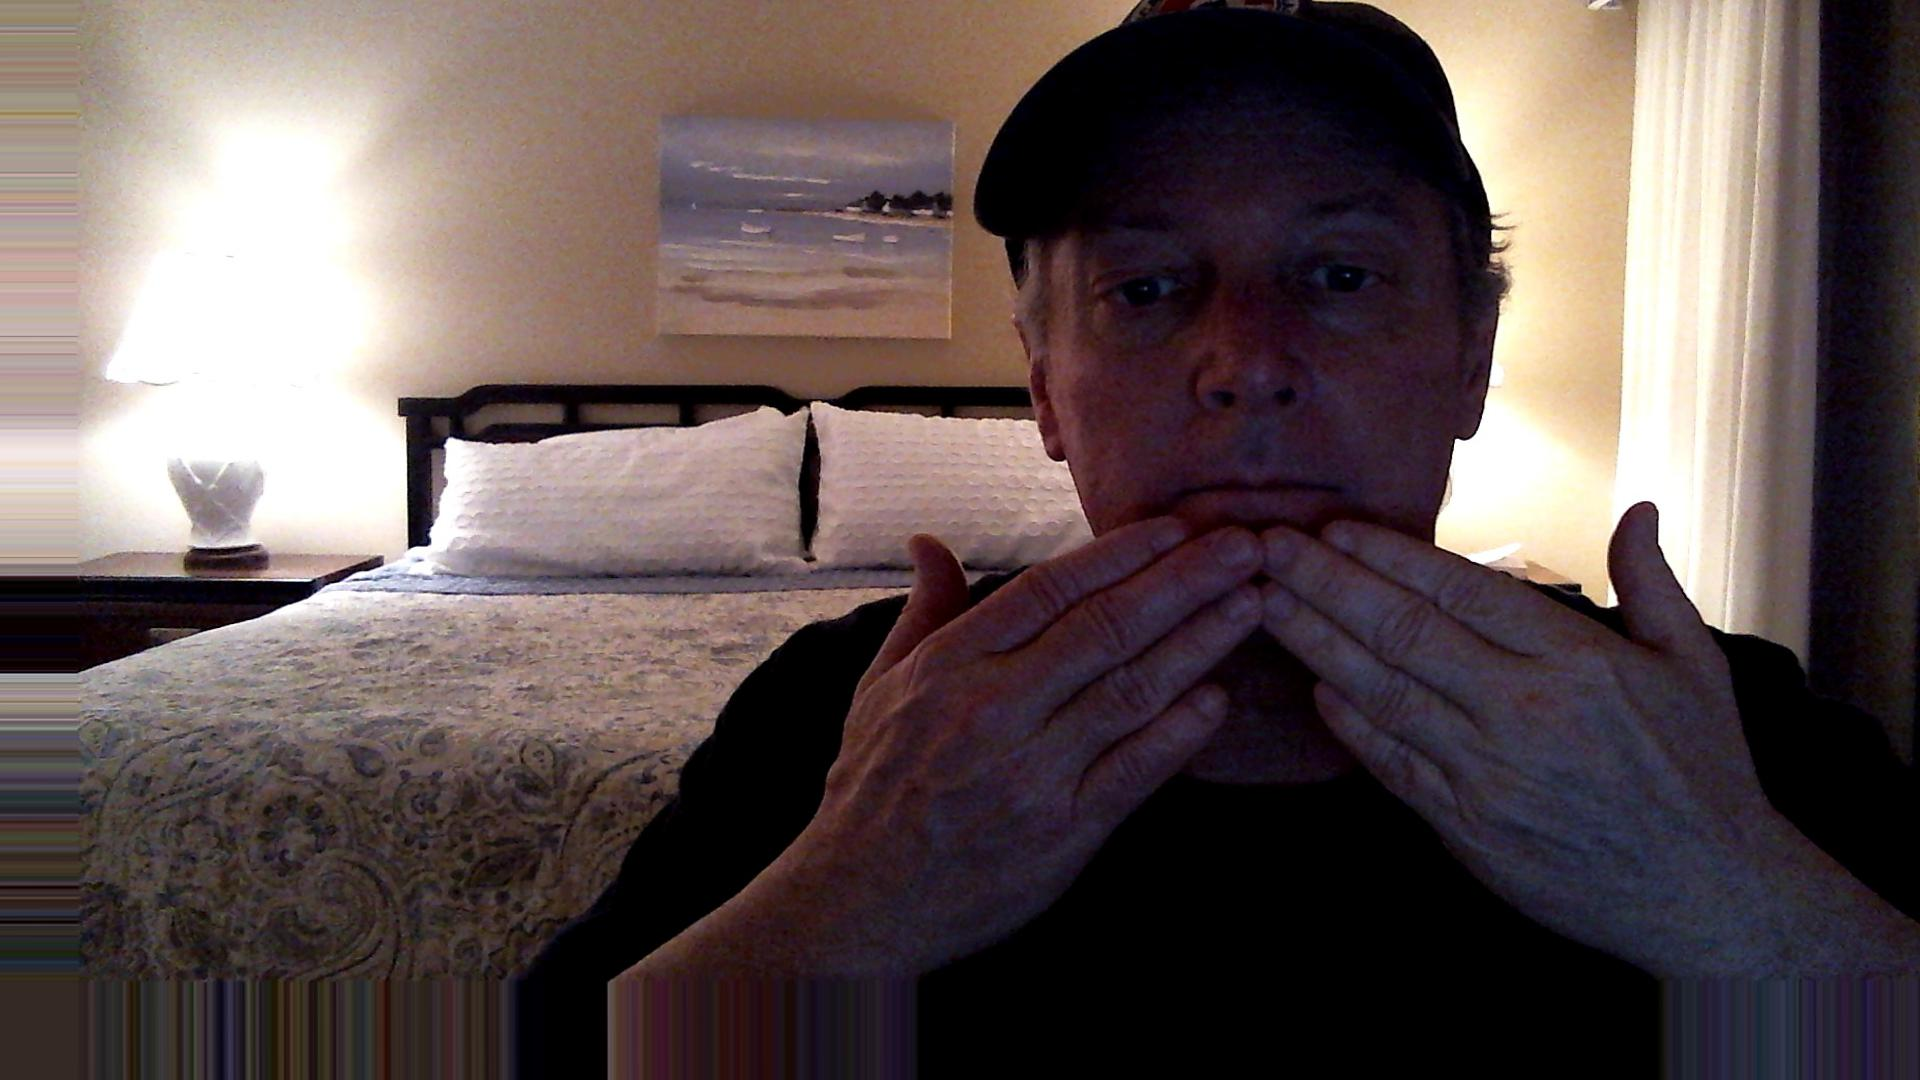Thank You: (835, 476, 1767, 910)
